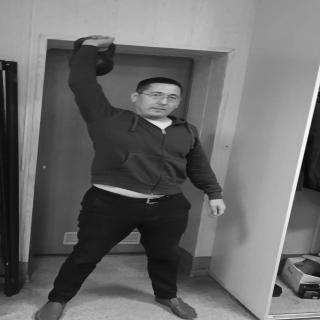kettlebell: (70, 38, 119, 76)
